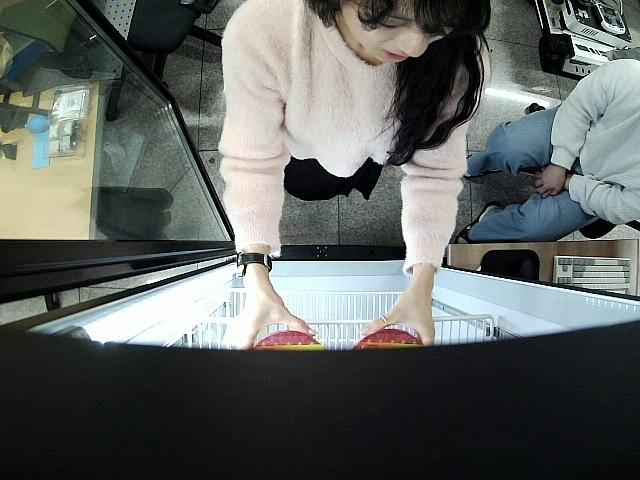00_hand: (234, 290, 320, 355), (359, 287, 436, 350)
05_nuguri_L: (352, 328, 425, 353), (247, 331, 324, 353)
